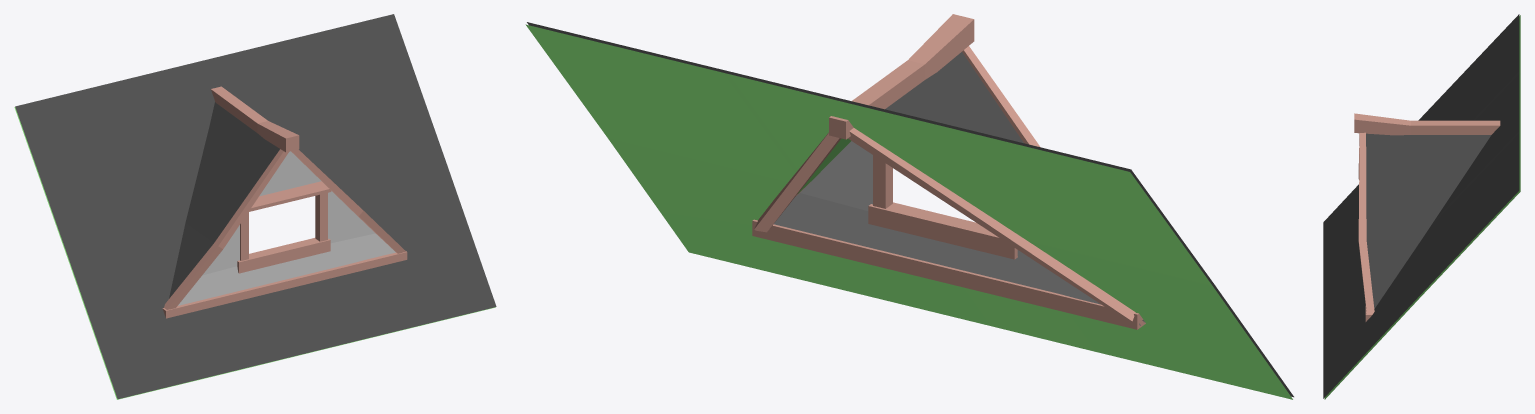
File: CenterWindowRoof 1.fbx
3 renders of one model, left to right at view 1: azimuth 30°, elevation 25°; view 2: azimuth 150°, elevation 25°; view 3: azimuth 270°, elevation 25°, orthographic. The views are drawn at different scales.
Parts seen in each view (by area): view 1: Roof_LOD0; view 2: Roof_LOD0; view 3: Roof_LOD0.
Boxes of the visible parts, bbox=[...] form: Roof_LOD0: bbox=[14, 14, 496, 399]; Roof_LOD0: bbox=[525, 14, 1293, 399]; Roof_LOD0: bbox=[1323, 14, 1520, 399].
Size of what is drawn, in the model's own units: 311 by 172 by 146.
